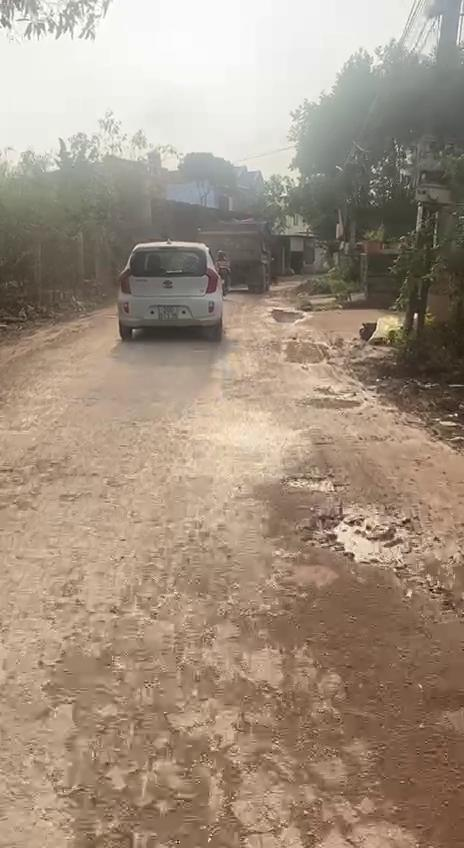pothole: (294, 502, 464, 612), (275, 338, 331, 368), (296, 394, 362, 412), (269, 306, 309, 325)
